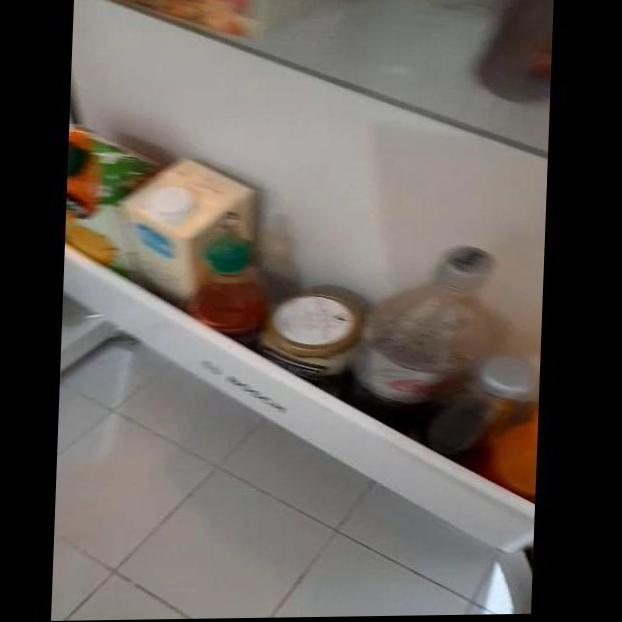milk: (125, 160, 219, 290)
